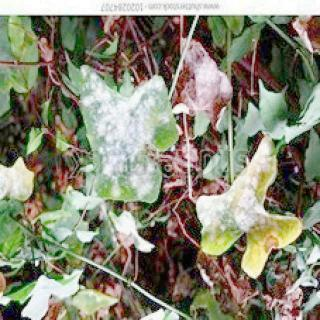grey mildew: (75, 61, 177, 183), (201, 162, 295, 242), (186, 43, 223, 107)
